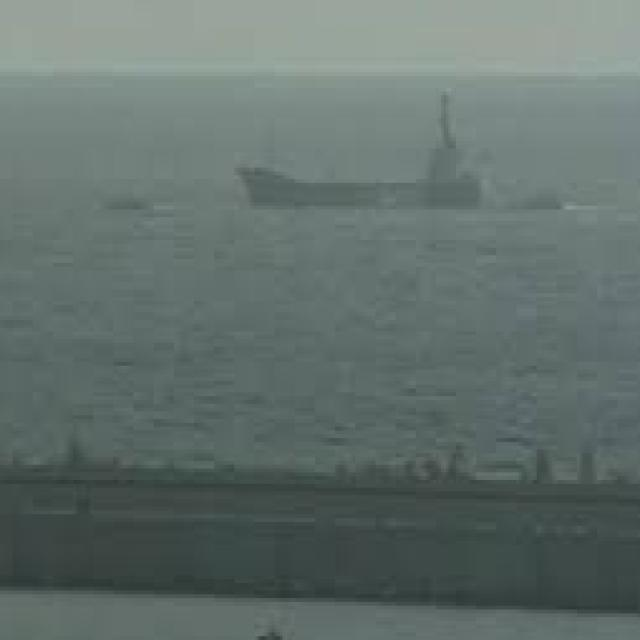cargoship: (245, 94, 514, 230)
